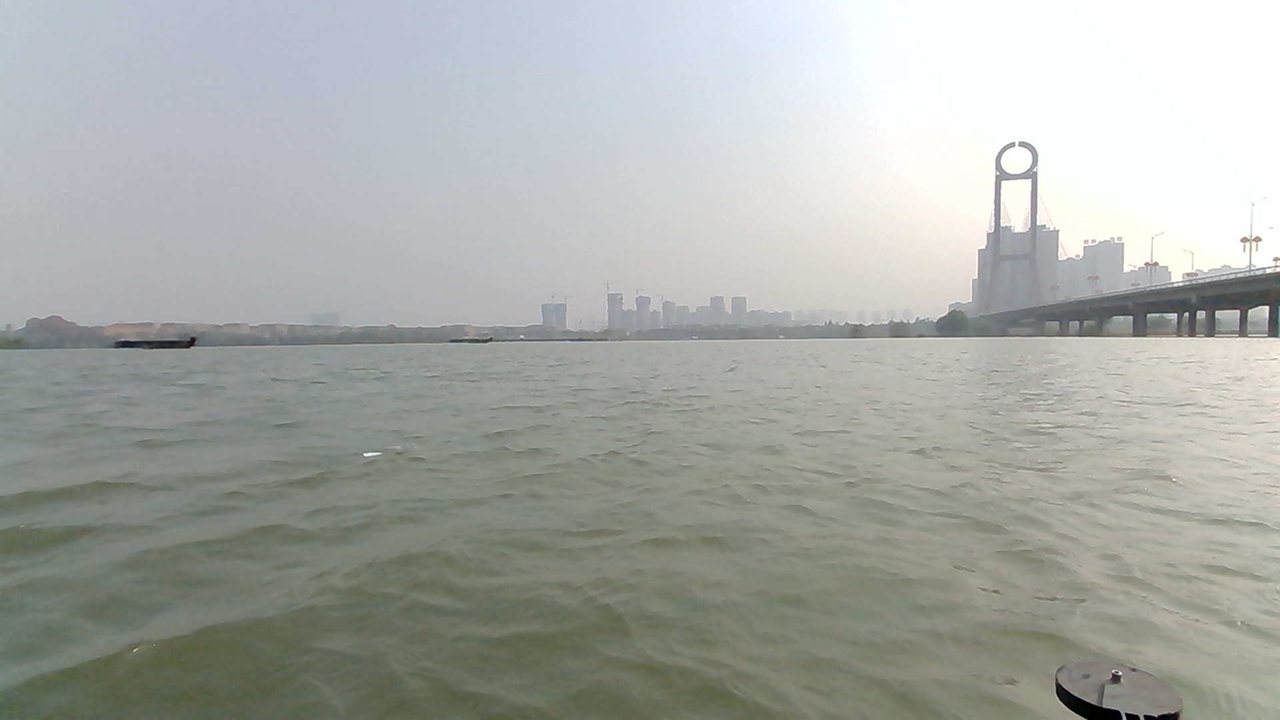bottle: (343, 428, 420, 471)
